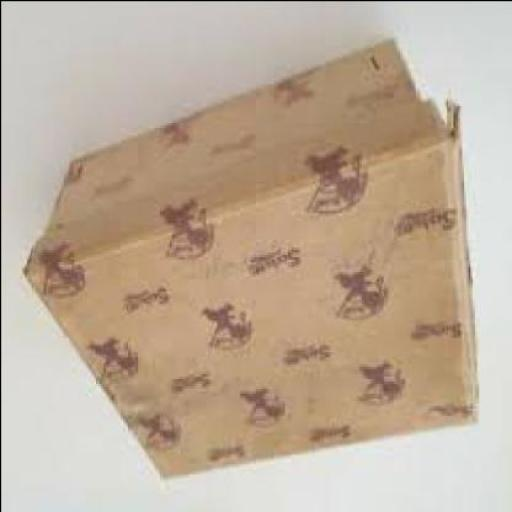cardboard: (28, 44, 482, 482)
